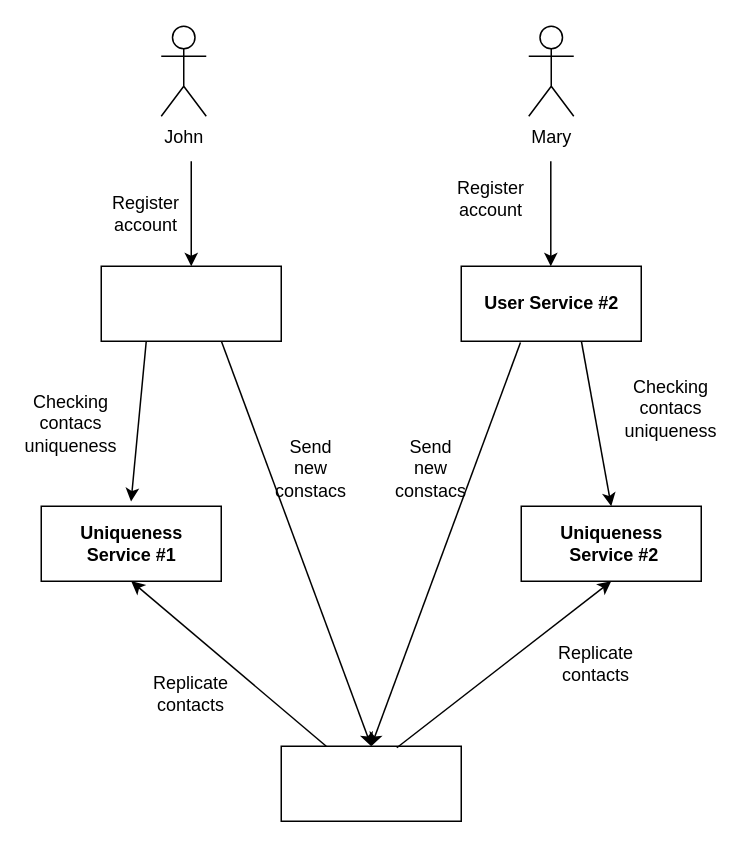
This 743x848 diagram has some shape labels left out. Each missing label, with the box of its shape:
Coordinator Service: (280, 745, 461, 821)
User Service #1: (100, 265, 281, 341)
